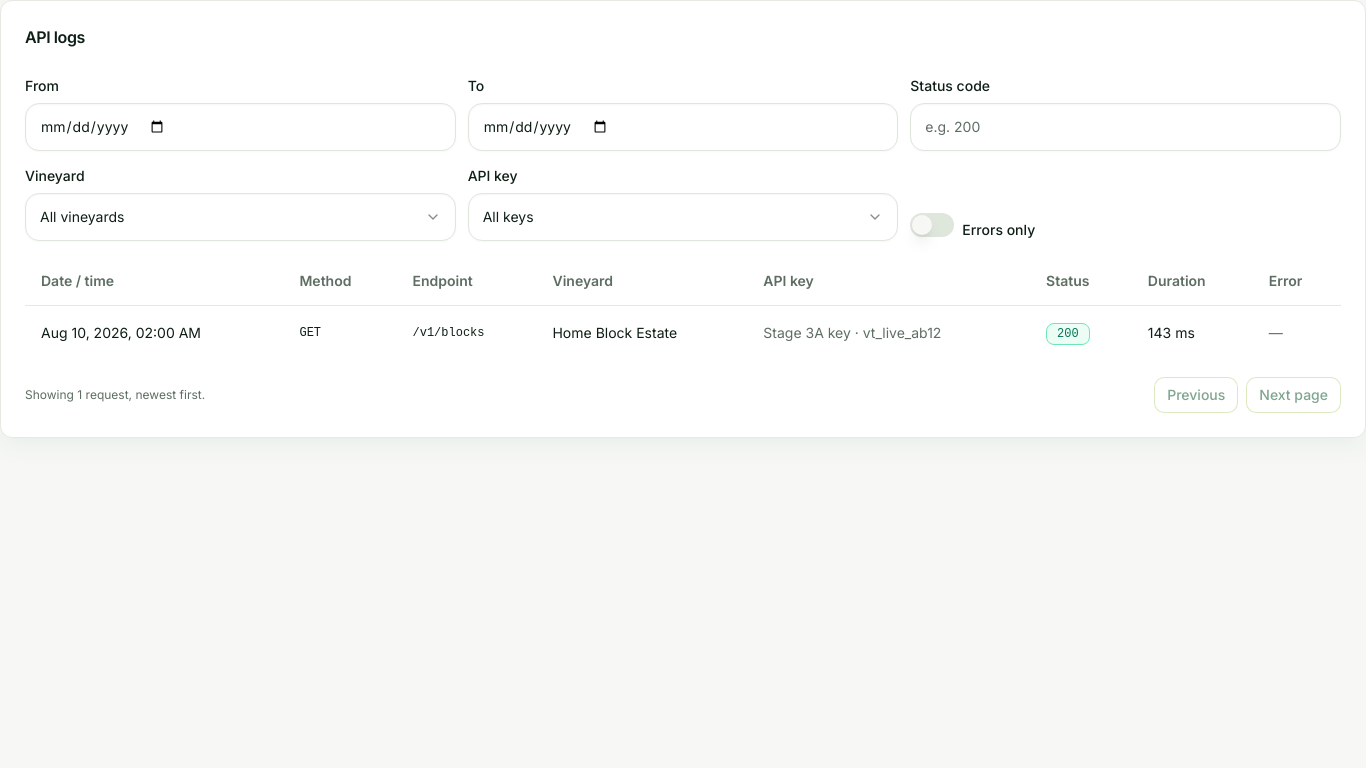
Test case: IntegrationApiLogsTab › opens a detail drawer containing only safe fields
This screenshot has width=1366, height=768.
Click the text "/v1/blocks": (466, 333) [396,305,536,360]
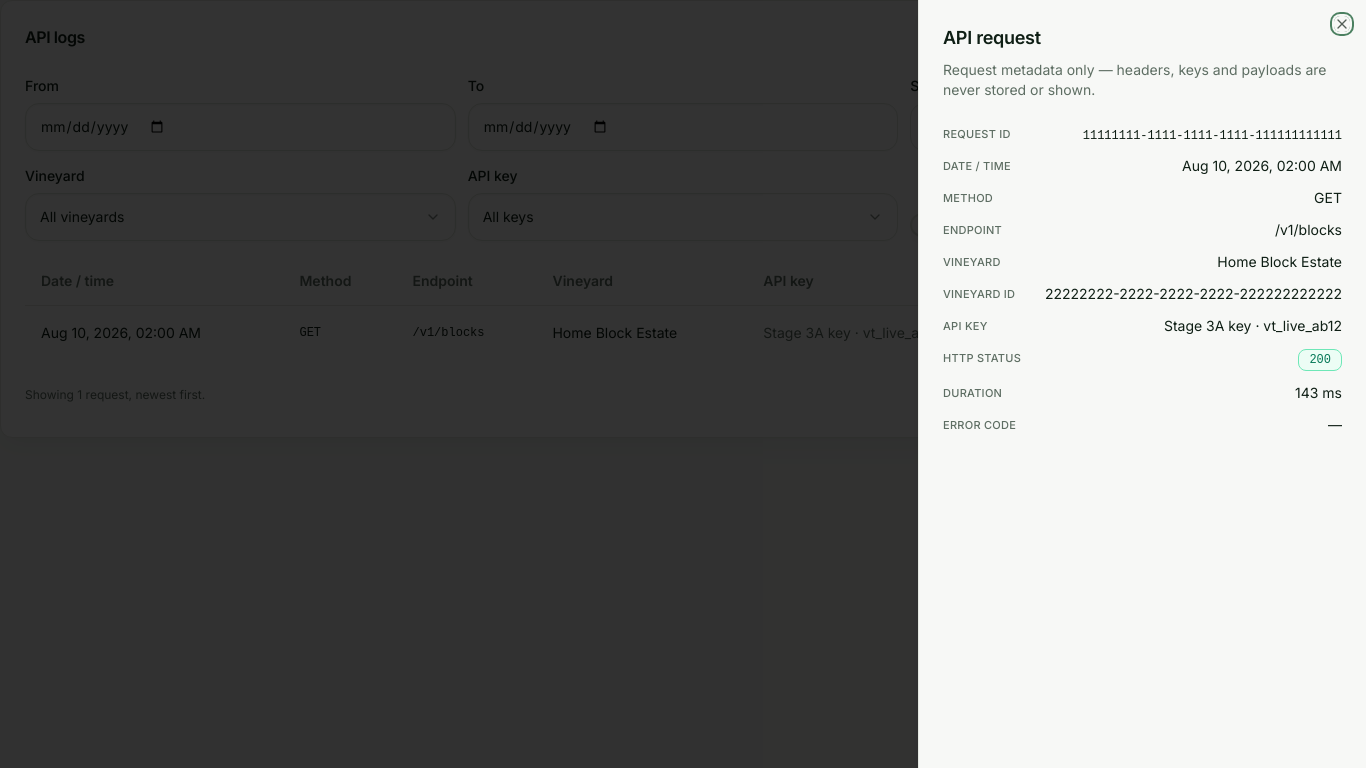
Expected: the dialog shows "Request ID", [943,127,1011,141]
Expected: the dialog shows "vt_live_ab12", [1164,317,1342,334]
